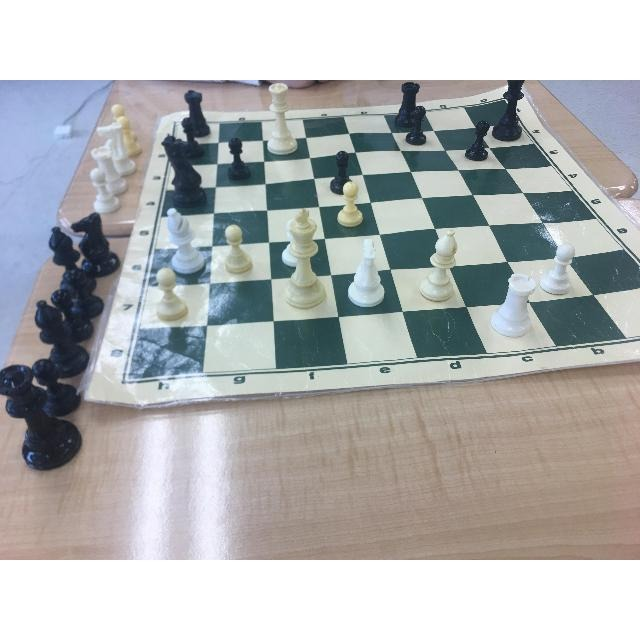black-king: (497, 80, 533, 139)
black-knight: (155, 131, 206, 201)
black-pawn: (460, 110, 491, 159), (406, 106, 438, 152), (323, 148, 351, 190), (222, 136, 248, 176), (177, 117, 203, 149)
black-rook: (181, 89, 211, 130), (397, 81, 423, 120)
white-bishop: (158, 205, 214, 276), (418, 222, 463, 307)
white-king: (271, 201, 327, 320)
white-knight: (346, 238, 395, 311)
white-pawn: (149, 265, 196, 321), (542, 243, 581, 299), (218, 224, 254, 276), (334, 182, 359, 226)
white-queen: (259, 81, 307, 161)
white-rook: (492, 265, 539, 346)
